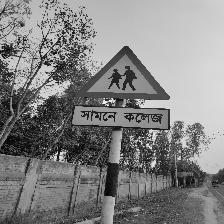College-in-front: (71, 42, 183, 132)
